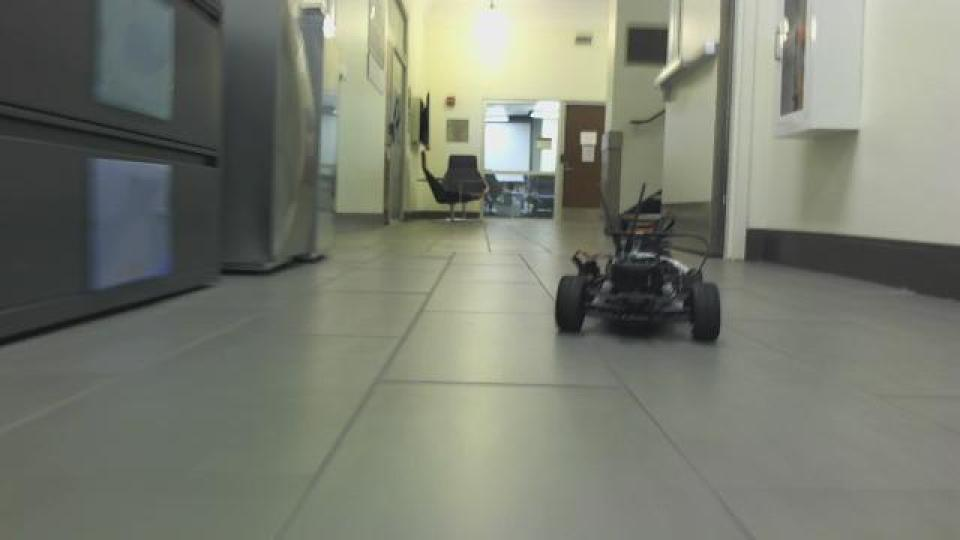car: (550, 180, 724, 345)
